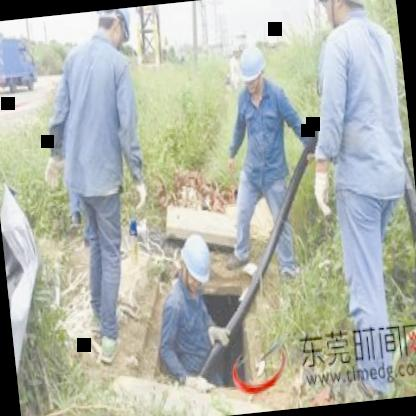helmet: (176, 227, 216, 294), (232, 36, 270, 96), (311, 0, 380, 33), (91, 7, 136, 54)
